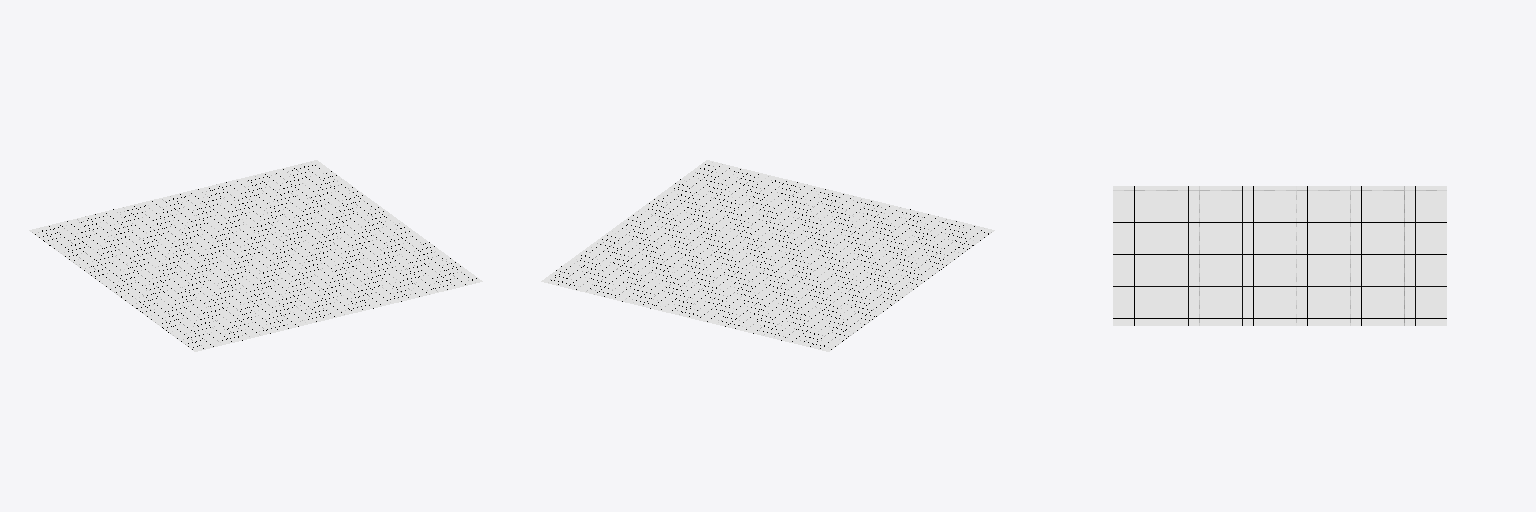
3 views of the same model, side by side, from view 1: azimuth 30°, elevation 25°; view 2: azimuth 150°, elevation 25°; view 3: azimuth 270°, elevation 25° (orthographic).
Parts seen in each view (by area): view 1: Plane; view 2: Plane; view 3: Plane.
Part boxes in pixels (x1,y1,x2,y2): Plane: (29, 160, 482, 351); Plane: (541, 160, 994, 351); Plane: (1113, 186, 1446, 325).
Size of the model in its own units: 15.86 by 0 by 15.86.
Materials: 1 (1 with a texture image).